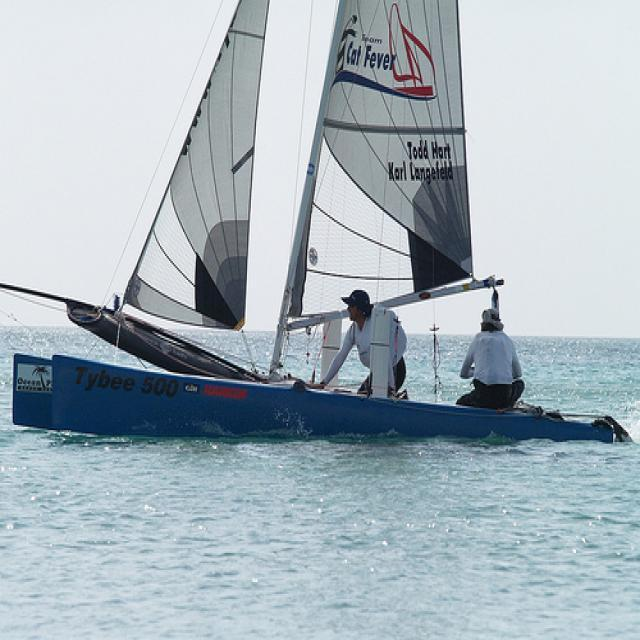Ship: (16, 6, 626, 457)
